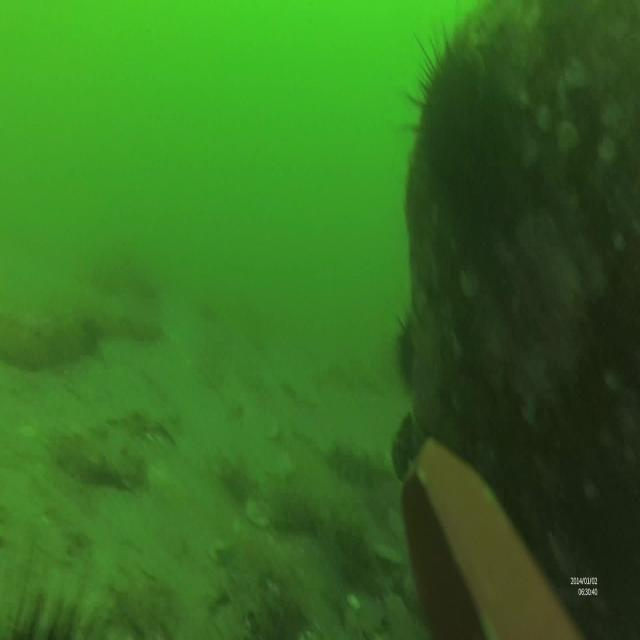echinus: (402, 30, 513, 226), (396, 308, 418, 395)
holothurian: (58, 430, 156, 498), (327, 438, 389, 492)
